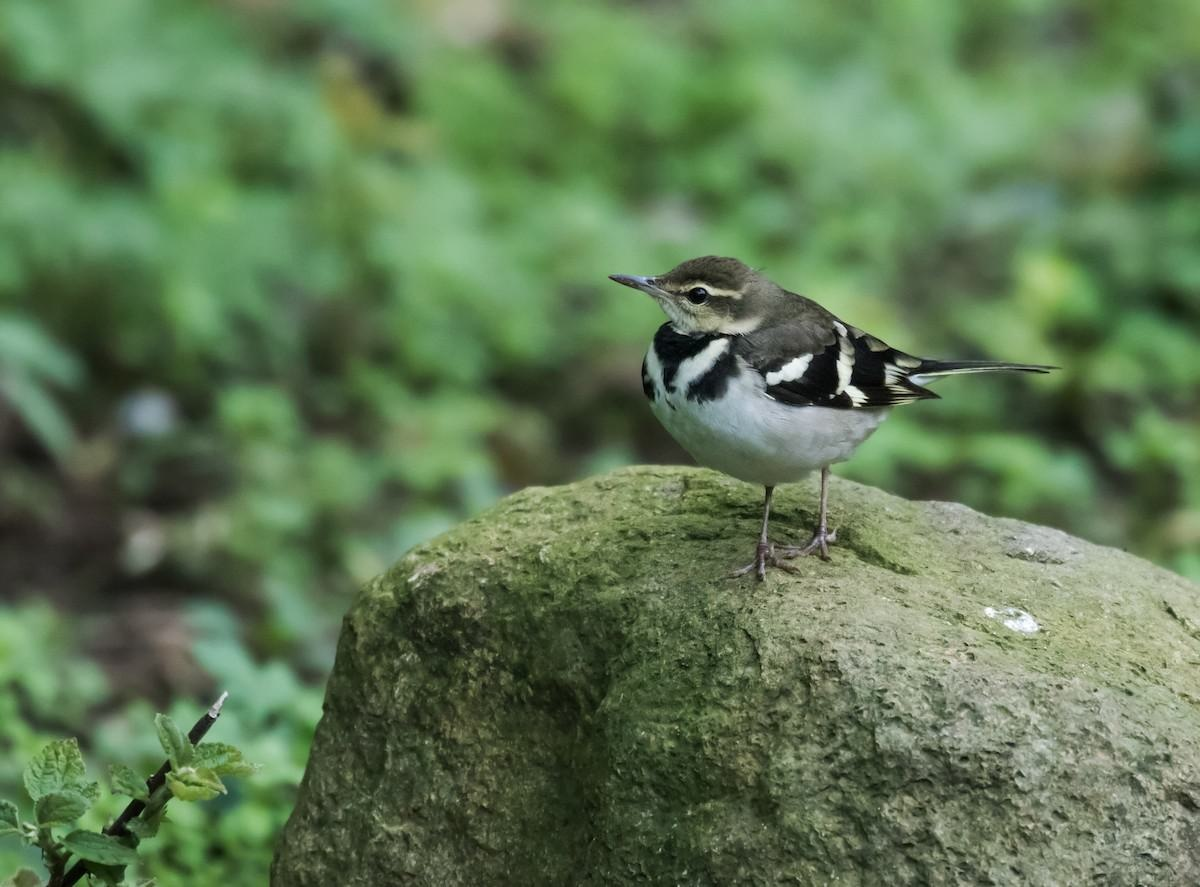wagtail: (643, 236, 1015, 529)
